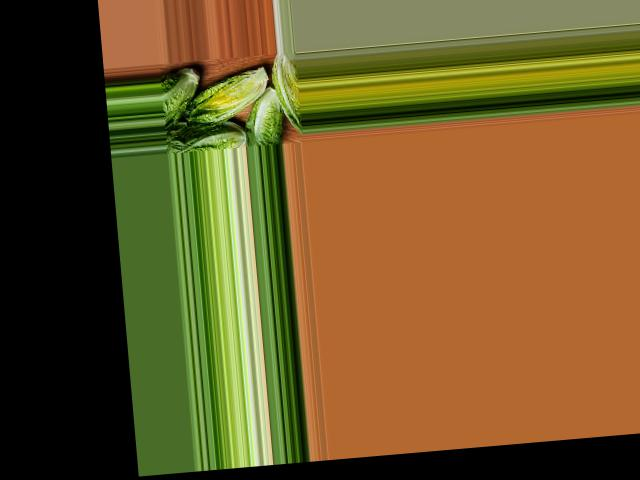lettuce: (268, 53, 303, 134)
